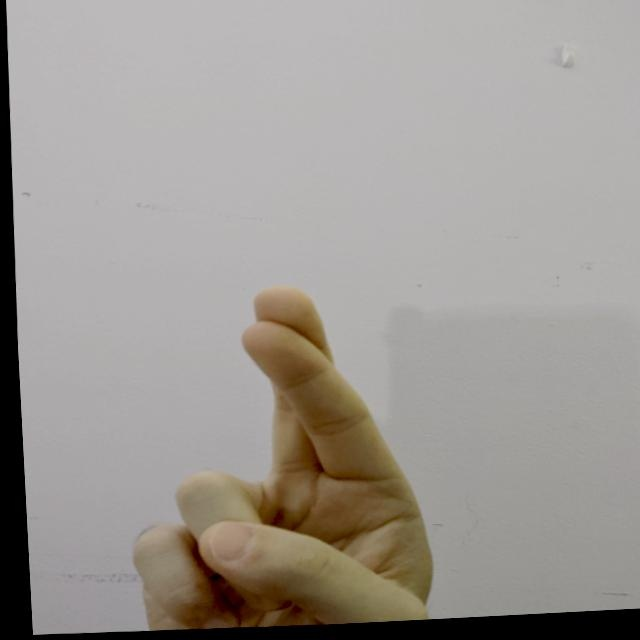R: (105, 272, 451, 635)
